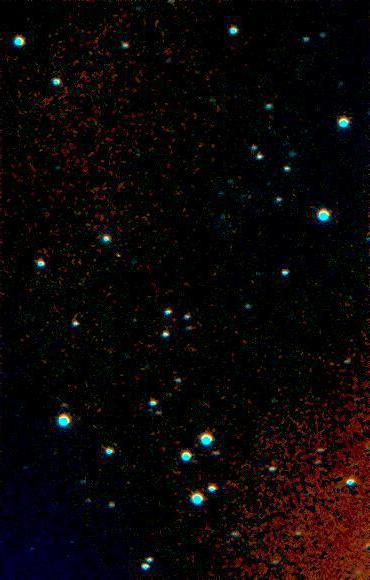star: (238, 181, 268, 211)
